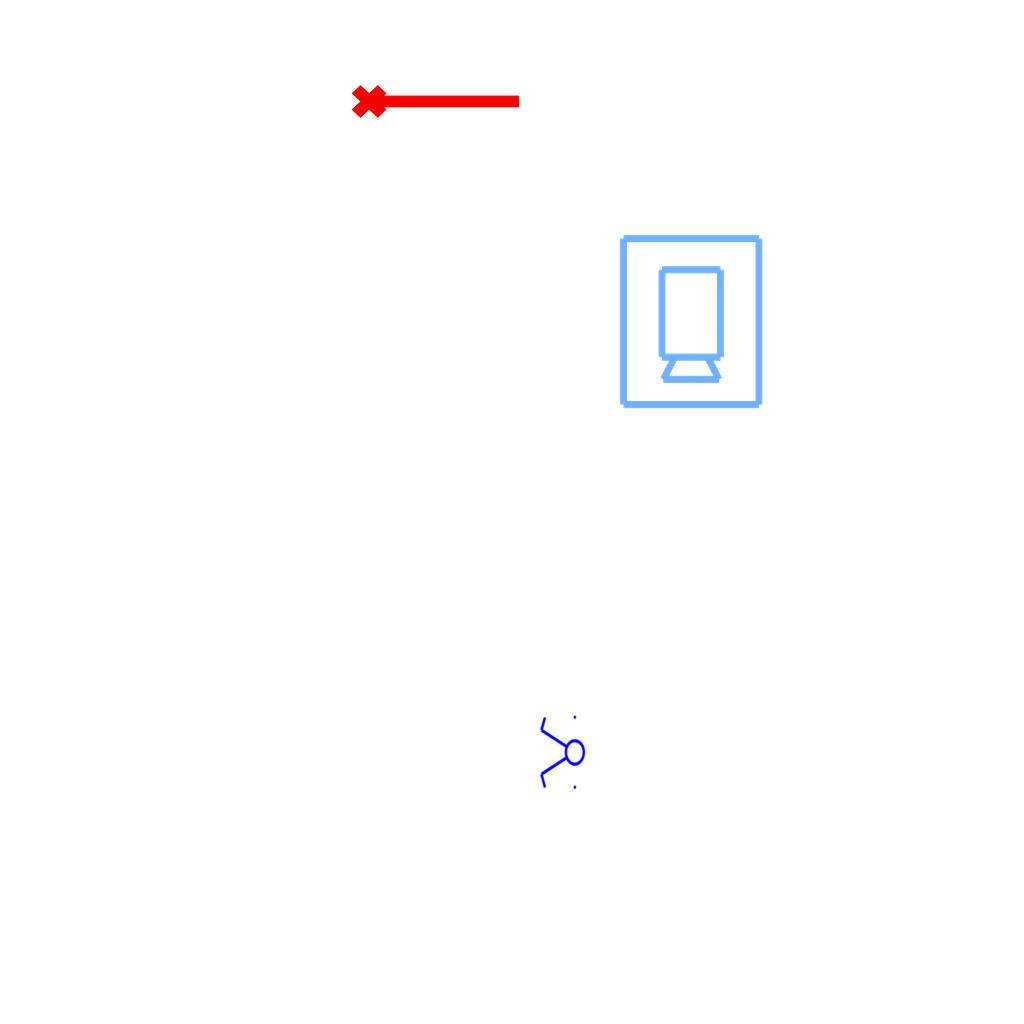ASR_Ansaugoeffnung: (349, 76, 525, 122)
KFO_Kamera_mit_Festobjektiv: (613, 230, 767, 412)
Serienschalter: (538, 711, 586, 795)
